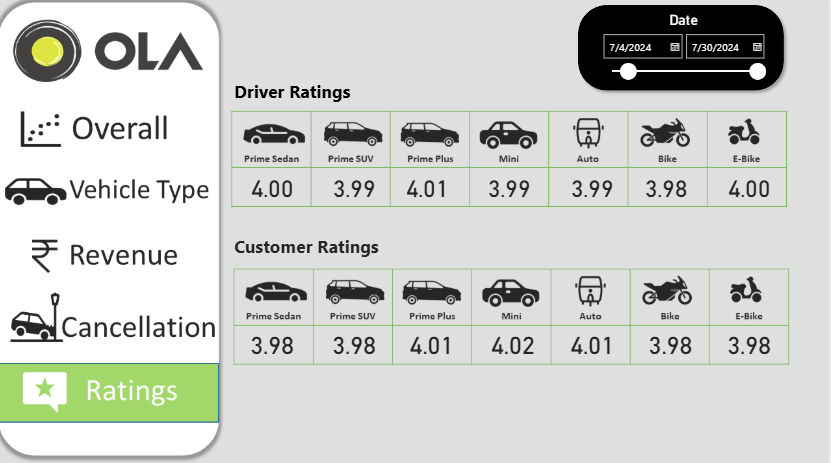

This screenshot's page, from the dashboard's own definition file:
{"tool":"powerbi","page":{"name":"Ratings","canvas":[1280,720],"ordinal":4},"visuals":[{"type":"actionButton","box":[0,252.3,341.6,90.7],"z":0},{"type":"actionButton","box":[0,360,341.6,90.7],"z":1000},{"type":"actionButton","box":[0,450.7,341.6,103.8],"z":2000},{"type":"actionButton","box":[0,153.7,341.6,95.9],"z":3000},{"type":"card","fields":{"Values":["Avg(July.Driver_Ratings)"]},"box":[360,263.3,126.7,58.3],"z":4000},{"type":"card","fields":{"Values":["Avg(July.Driver_Ratings)"]},"box":[598.3,263.3,126.7,58.3],"z":5000},{"type":"card","fields":{"Values":["Avg(July.Driver_Ratings)"]},"box":[725,263.3,126.7,58.3],"z":6000},{"type":"card","fields":{"Values":["Avg(July.Driver_Ratings)"]},"box":[851.7,263.3,126.7,58.3],"z":7000},{"type":"card","fields":{"Values":["Avg(July.Driver_Ratings)"]},"box":[966.7,263.3,126.7,58.3],"z":8000},{"type":"card","fields":{"Values":["Avg(July.Driver_Ratings)"]},"box":[1093.3,263.3,126.7,58.3],"z":9000},{"type":"card","fields":{"Values":["Avg(July.Driver_Ratings)"]},"box":[486.7,263.3,126.7,58.3],"z":10000},{"type":"textbox","box":[360,121.7,211.7,48.3],"z":11000},{"type":"textbox","box":[360,360,253.3,58.3],"z":12000},{"type":"card","fields":{"Values":["Avg(July.Customer_Rating)"]},"box":[360,503.3,126.7,58.3],"z":13000},{"type":"card","fields":{"Values":["Avg(July.Customer_Rating)"]},"box":[725,503.3,138.3,58.3],"z":14000},{"type":"card","fields":{"Values":["Avg(July.Customer_Rating)"]},"box":[851.7,503.3,126.7,58.3],"z":15000},{"type":"card","fields":{"Values":["Avg(July.Customer_Rating)"]},"box":[966.7,503.3,140,58.3],"z":16000},{"type":"card","fields":{"Values":["Avg(July.Customer_Rating)"]},"box":[1093.3,503.3,126.7,58.3],"z":17000},{"type":"card","fields":{"Values":["Avg(July.Customer_Rating)"]},"box":[486.7,503.3,126.7,58.3],"z":18000},{"type":"card","fields":{"Values":["Avg(July.Customer_Rating)"]},"box":[598.3,503.3,140,58.3],"z":19000},{"type":"shape","box":[885,3.3,335,150],"z":20000},{"type":"slicer","title":"Date","fields":{"Values":["July.Date"]},"box":[915,15,286.7,166.7],"z":21000}]}

Visuals, with their boxes in screenshot pixels (x1, y1, x2, y2), scaled from the page's 1280x720 canvas onto the 831x463 screenshot:
actionButton: <box>0,162,222,221</box>
actionButton: <box>0,232,222,290</box>
actionButton: <box>0,290,222,357</box>
actionButton: <box>0,99,222,161</box>
card - Avg(July.Driver_Ratings): <box>234,169,316,207</box>
card - Avg(July.Driver_Ratings): <box>388,169,471,207</box>
card - Avg(July.Driver_Ratings): <box>471,169,553,207</box>
card - Avg(July.Driver_Ratings): <box>553,169,635,207</box>
card - Avg(July.Driver_Ratings): <box>628,169,710,207</box>
card - Avg(July.Driver_Ratings): <box>710,169,792,207</box>
card - Avg(July.Driver_Ratings): <box>316,169,398,207</box>
textbox: <box>234,78,371,109</box>
textbox: <box>234,232,398,269</box>
card - Avg(July.Customer_Rating): <box>234,324,316,361</box>
card - Avg(July.Customer_Rating): <box>471,324,560,361</box>
card - Avg(July.Customer_Rating): <box>553,324,635,361</box>
card - Avg(July.Customer_Rating): <box>628,324,718,361</box>
card - Avg(July.Customer_Rating): <box>710,324,792,361</box>
card - Avg(July.Customer_Rating): <box>316,324,398,361</box>
card - Avg(July.Customer_Rating): <box>388,324,479,361</box>
shape: <box>575,2,792,99</box>
"Date" slicer: <box>594,10,780,117</box>
